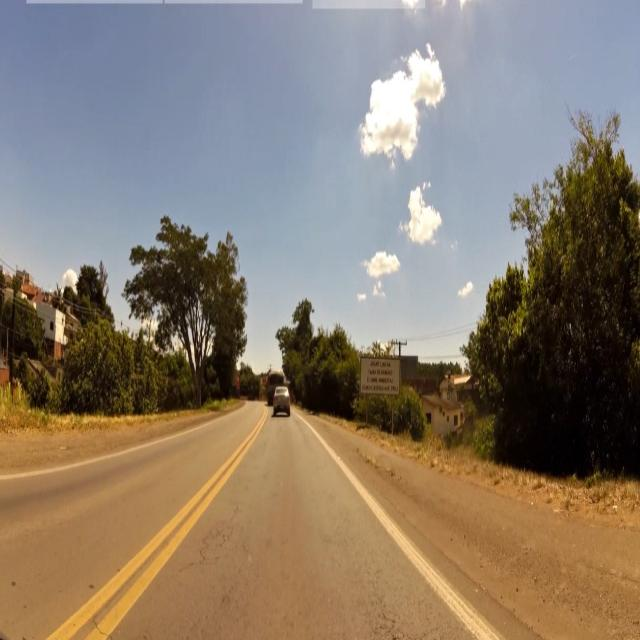E-5: (362, 354, 399, 396)
